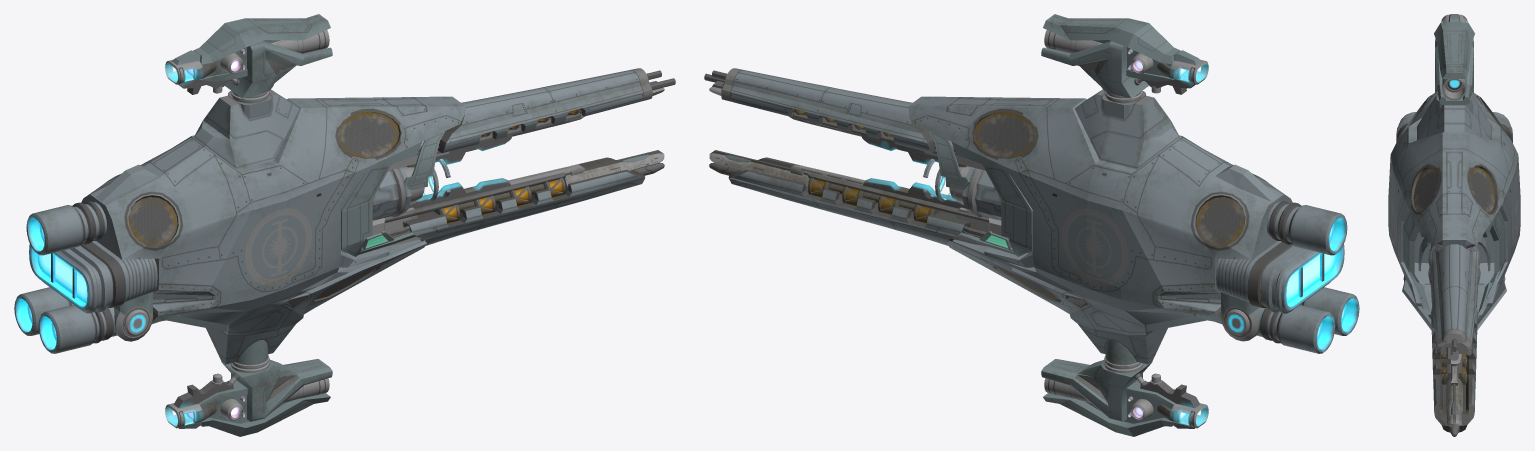
The picture shows the model from 3 angles, left to right: view 1: azimuth 30°, elevation 25°; view 2: azimuth 150°, elevation 25°; view 3: azimuth 270°, elevation 25°; orthographic projection. The views are drawn at different scales.
Parts seen in each view (by area): view 1: SUP_f1b61a4fdc9a4695afe824061c49c6c6; view 2: SUP_f1b61a4fdc9a4695afe824061c49c6c6; view 3: SUP_f1b61a4fdc9a4695afe824061c49c6c6.
Part boxes in pixels (bbox=[...]): SUP_f1b61a4fdc9a4695afe824061c49c6c6: bbox=[14, 14, 675, 436]; SUP_f1b61a4fdc9a4695afe824061c49c6c6: bbox=[704, 14, 1359, 436]; SUP_f1b61a4fdc9a4695afe824061c49c6c6: bbox=[1388, 14, 1520, 436].
Size of the model in its own units: 8.62 by 5.25 by 1.71.
2 materials, 2 textured.
